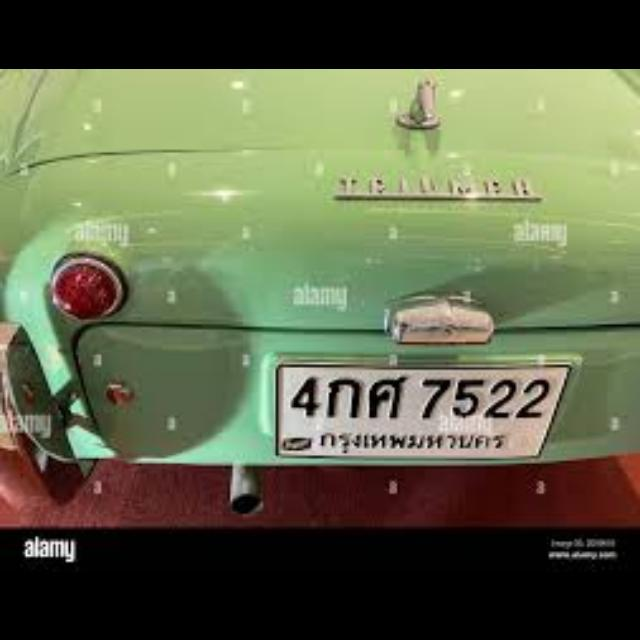licenseplate: (275, 356, 575, 462)
